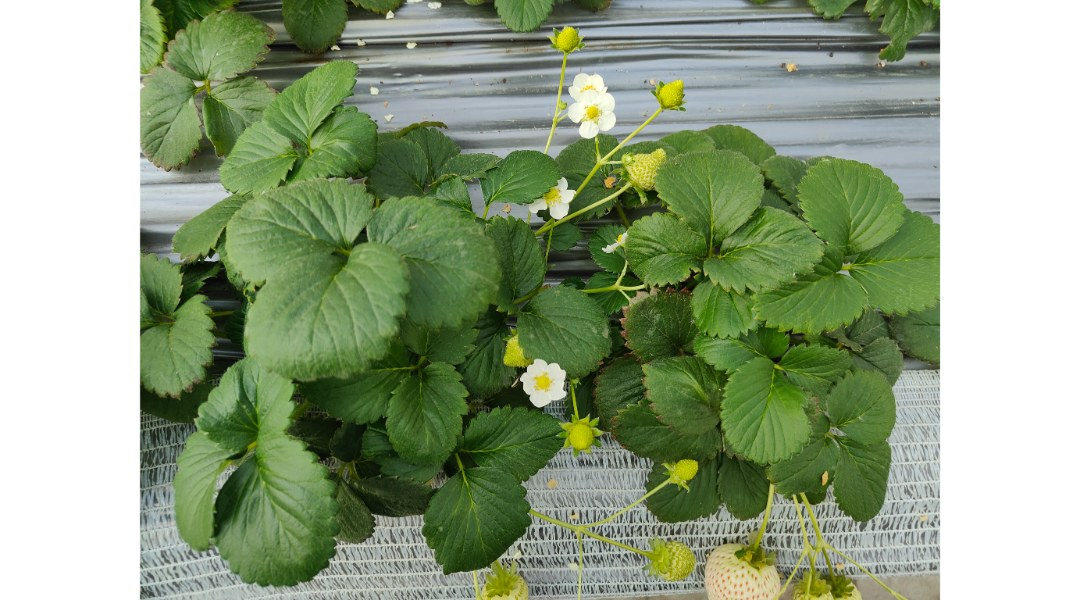berry: (705, 535, 784, 600), (619, 142, 673, 197), (641, 74, 698, 118), (641, 537, 693, 581), (483, 553, 528, 600), (558, 409, 598, 460), (661, 449, 702, 490), (543, 21, 586, 56)
flower: (572, 89, 619, 146), (535, 167, 577, 230), (520, 359, 571, 409), (570, 67, 610, 113)
strain: (605, 490, 652, 531), (526, 503, 573, 533), (570, 276, 612, 298)
